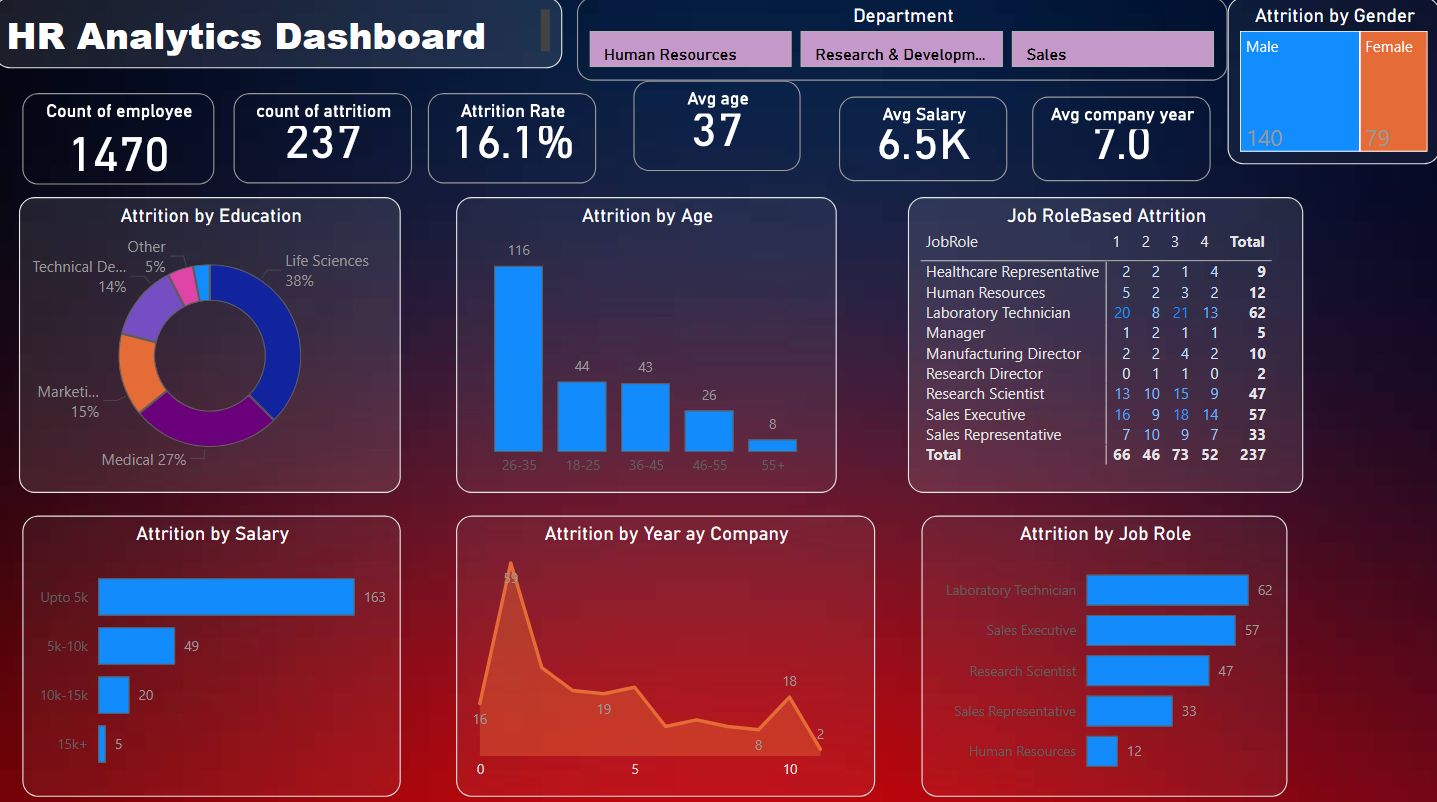

What the dashboard file says about the page in this screenshot:
{"tool":"powerbi","page":{"name":"Page 1","canvas":[1280,720],"ordinal":0},"visuals":[{"type":"card","title":"Count of employee","fields":{"Values":["CountNonNull(HR_Analytics.EmpID)"]},"box":[25.1,85.1,170.1,80.9],"z":0},{"type":"card","title":"count of attritiom","fields":{"Values":["Sum(HR_Analytics.Attritioncount)"]},"box":[212,85.1,157.6,79.5],"z":1000},{"type":"card","title":"Attrition Rate","fields":{"Values":["HR_Analytics.Attritionrate"]},"box":[383.5,85.1,149.2,79.5],"z":2000},{"type":"card","title":"Avg age","fields":{"Values":["Avg(HR_Analytics.Age)"]},"box":[543.9,85.1,147.8,79.5],"z":3000},{"type":"card","title":"Avg company year","fields":{"Values":["Avg(HR_Analytics.YearsAtCompany)"]},"box":[905.1,86.5,157.6,79.5],"z":4000},{"type":"card","title":"Avg Salary","fields":{"Values":["Avg(HR_Analytics.MonthlyIncome)"]},"box":[730.8,86.5,149.2,79.5],"z":5000},{"type":"donutChart","title":"Attrition by Education","fields":{"Category":["HR_Analytics.EducationField"],"Y":["Sum(HR_Analytics.Attritioncount)"]},"box":[22.3,177.1,337.5,262.2],"z":6000},{"type":"columnChart","title":"Attrition by Age","fields":{"Category":["HR_Analytics.AgeGroup"],"Y":["Sum(HR_Analytics.Attritioncount)"]},"box":[408.6,177.1,337.5,262.2],"z":7000},{"type":"pivotTable","title":"Job RoleBased Attrition","fields":{"Rows":["HR_Analytics.JobRole"],"Columns":["HR_Analytics.JobSatisfaction"],"Values":["Sum(HR_Analytics.Attritioncount)"]},"box":[808.9,177.1,350.1,262.2],"z":8000},{"type":"barChart","title":"Attrition by Salary","fields":{"Y":["Sum(HR_Analytics.Attritioncount)"],"Category":["HR_Analytics.SalarySlab"]},"box":[25.1,458.8,334.7,249.6],"z":9000},{"type":"barChart","title":"Attrition by Job Role","fields":{"Y":["Sum(HR_Analytics.Attritioncount)"],"Category":["HR_Analytics.JobRole"]},"box":[821.4,458.8,323.6,249.6],"z":10000},{"type":"areaChart","title":"Attrition by Year ay Company","fields":{"Category":["HR_Analytics.YearsAtCompany"],"Y":["Sum(HR_Analytics.Attritioncount)"]},"box":[408.6,458.8,371,249.6],"z":11000},{"type":"treemap","title":"Attrition by Gender","fields":{"Group":["HR_Analytics.Gender"],"Values":["Sum(HR_Analytics.Attritioncount)"]},"box":[1092,0,188.3,147.8],"z":12000},{"type":"advancedSlicerVisual","fields":{"Values":["HR_Analytics.Department"]},"box":[516,0,576,73.9],"z":13000},{"type":"textbox","box":[0,0,503.5,62.8],"z":14000}]}

Visuals, with their boxes in screenshot pixels (x1, y1, x2, y2), scaled from the page's 1280x720 canvas onto the 1437x802 screenshot:
"Count of employee" card: Rect(28, 95, 219, 185)
"count of attritiom" card: Rect(238, 95, 415, 183)
"Attrition Rate" card: Rect(431, 95, 598, 183)
"Avg age" card: Rect(611, 95, 777, 183)
"Avg company year" card: Rect(1016, 96, 1193, 185)
"Avg Salary" card: Rect(820, 96, 988, 185)
"Attrition by Education" donutChart: Rect(25, 197, 404, 489)
"Attrition by Age" columnChart: Rect(459, 197, 838, 489)
"Job RoleBased Attrition" pivotTable: Rect(908, 197, 1301, 489)
"Attrition by Salary" barChart: Rect(28, 511, 404, 789)
"Attrition by Job Role" barChart: Rect(922, 511, 1285, 789)
"Attrition by Year ay Company" areaChart: Rect(459, 511, 875, 789)
"Attrition by Gender" treemap: Rect(1226, 0, 1436, 165)
advancedSlicerVisual - HR_Analytics.Department: Rect(579, 0, 1226, 82)
textbox: Rect(0, 0, 565, 70)
